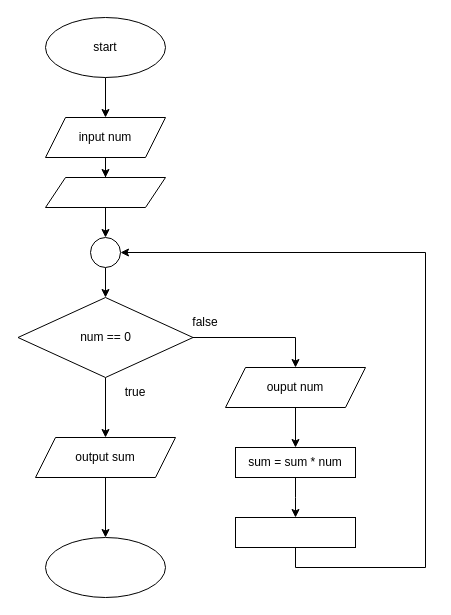
Some shapes in this 451 by 615 pixel diagram are drawn without their labels. The shapes that lost their labels are listed below. From the top down, each one's box as (x1, y1, x2, y2) in pixels, then its label:
(44, 176, 166, 208): sum = 1
(234, 516, 356, 548): num = num - 1
(44, 536, 166, 598): end
